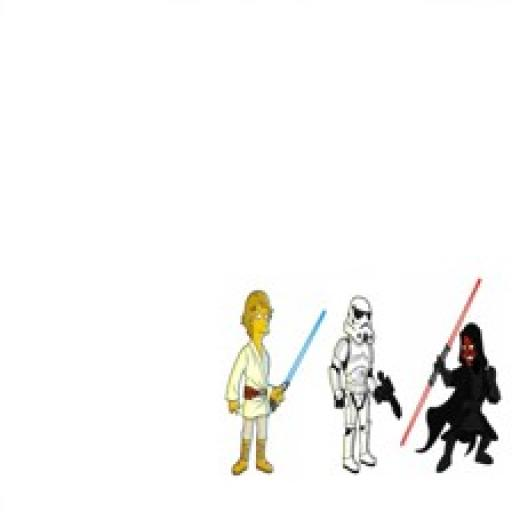human: (226, 289, 283, 475)
lightsaber: (268, 308, 330, 408)
sith saber: (399, 272, 485, 447)
